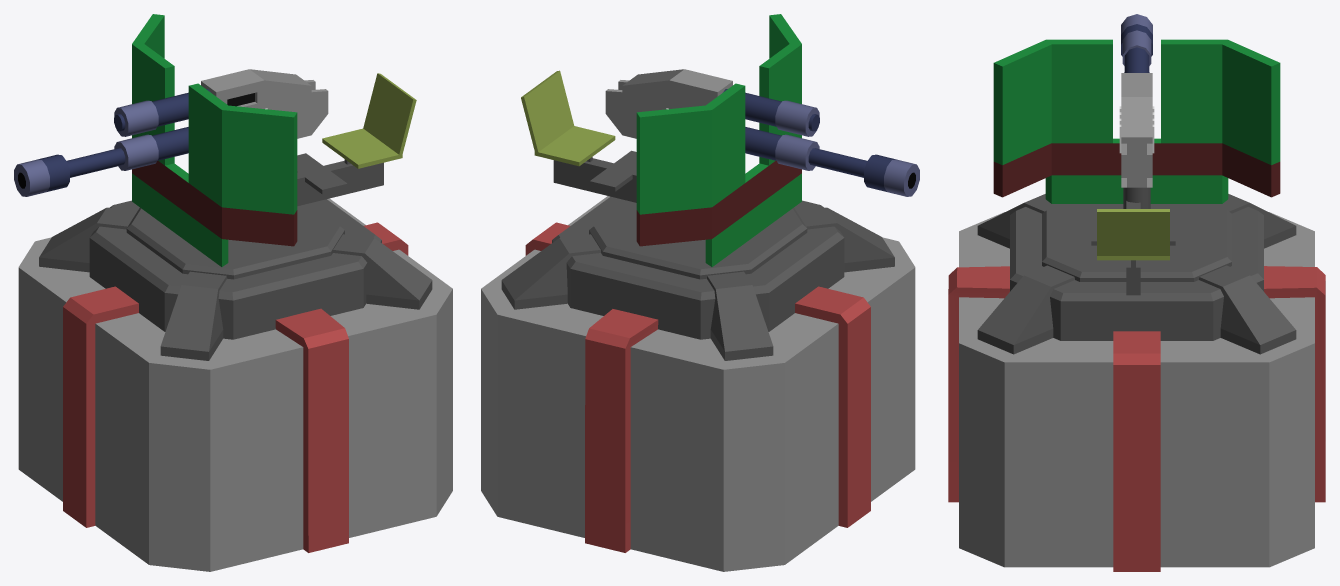
The model's file is Turret.FBX.
3 renders of one model, left to right at view 1: azimuth 30°, elevation 25°; view 2: azimuth 150°, elevation 25°; view 3: azimuth 270°, elevation 25°, orthographic.
Parts seen in each view (by area): view 1: Base, Box008, Platform, Box003, Gun, Box016, Box002, Box004, Box006, Box013, Cylinder004, Cylinder011 (+5 smaller); view 2: Base, Box008, Platform, Box003, Gun, Box016, Box006, Box005, Box002, Cylinder004, Box013, Cylinder011 (+5 smaller); view 3: Base, Box008, Platform, Box003, Box004, Box005, Box016, Gun, Box002, Box006, Cylinder004, Cylinder010 (+3 smaller).
Boxes of the visible parts, <box> form: Base: <box>18,198,452,571</box>; Box008: <box>132,14,297,266</box>; Platform: <box>89,199,381,339</box>; Box003: <box>126,203,344,279</box>; Gun: <box>201,69,328,138</box>; Box016: <box>322,73,416,168</box>; Box002: <box>160,271,226,360</box>; Box004: <box>333,234,432,309</box>; Box006: <box>39,207,137,272</box>; Box013: <box>297,160,383,206</box>; Cylinder004: <box>14,154,69,196</box>; Cylinder011: <box>114,100,158,136</box>; Base: <box>481,196,915,571</box>; Box008: <box>636,14,801,266</box>; Platform: <box>552,196,844,339</box>; Box003: <box>589,201,807,279</box>; Gun: <box>605,69,732,138</box>; Box016: <box>521,70,615,166</box>; Box006: <box>707,271,773,360</box>; Box005: <box>501,234,600,309</box>; Box002: <box>796,207,894,272</box>; Cylinder004: <box>864,154,919,196</box>; Box013: <box>553,158,636,202</box>; Cylinder011: <box>775,100,819,136</box>; Base: <box>948,212,1325,571</box>; Box008: <box>993,39,1280,203</box>; Platform: <box>1010,207,1263,340</box>; Box003: <box>1042,204,1231,281</box>; Box004: <box>977,265,1074,354</box>; Box005: <box>1199,265,1296,354</box>; Box016: <box>1097,209,1169,260</box>; Gun: <box>1121,73,1152,187</box>; Box002: <box>977,194,1060,248</box>; Box006: <box>1213,194,1296,248</box>; Cylinder004: <box>1121,14,1152,56</box>; Cylinder010: <box>1124,47,1149,72</box>.
Size of the model in its own units: 86.39 by 91.89 by 74.2.
